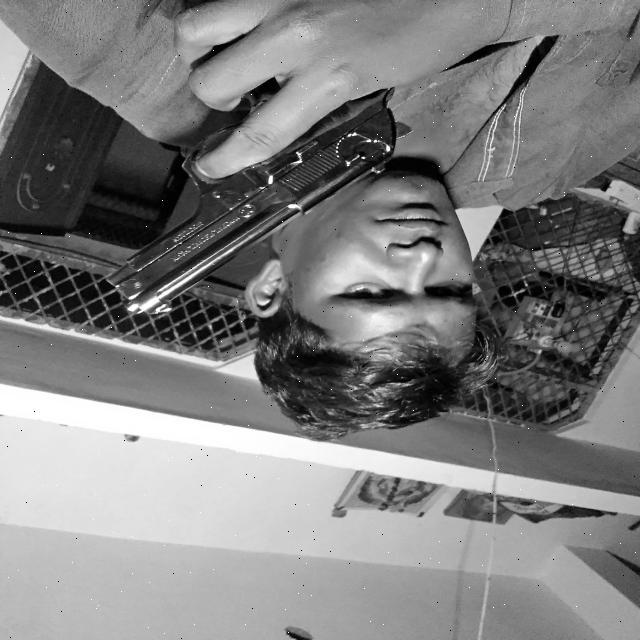gun: (89, 0, 422, 330)
